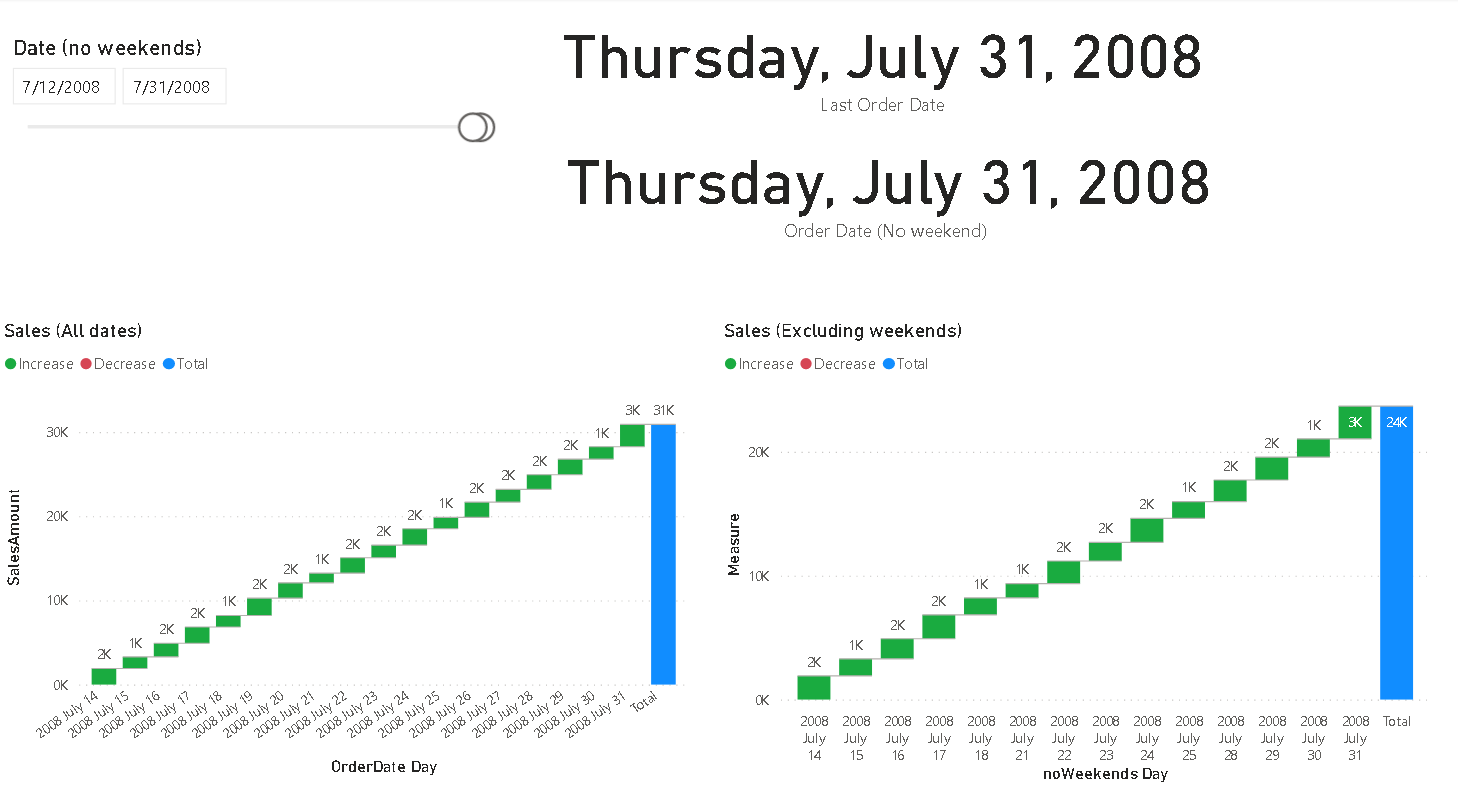

The page's visual inventory and layout, read from the dashboard file:
{"tool":"powerbi","page":{"name":"Page 1","canvas":[1280,720],"ordinal":0},"visuals":[{"type":"waterfallChart","title":"Sales (All dates)","fields":{"Category":["tblInternetSales.OrderDate.Variation.Date Hierarchy.Year","tblInternetSales.OrderDate.Variation.Date Hierarchy.Month","tblInternetSales.OrderDate.Variation.Date Hierarchy.Day"],"Y":["Sum(tblInternetSales.SalesAmount)"]},"box":[0,280.6,608.6,403.6],"z":0},{"type":"slicer","fields":{"Values":["tblInternetSales.noWeekends"]},"box":[0,27.3,430.9,200.4],"z":1000},{"type":"card","fields":{"Values":["Max(tblInternetSales.OrderDate)"]},"box":[406.3,0,697.9,109.3],"z":2000},{"type":"card","title":"Prior day","fields":{"Values":["Max(tblInternetSales.noWeekends)"]},"box":[412.7,102,697.9,125.7],"z":3000},{"type":"waterfallChart","title":"Sales (Excluding weekends)","fields":{"Category":["tblInternetSales.noWeekends.Variation.Date Hierarchy.Year","tblInternetSales.noWeekends.Variation.Date Hierarchy.Month","tblInternetSales.noWeekends.Variation.Date Hierarchy.Day"],"Y":["tblInternetSales.Measure"]},"box":[629.5,280.6,627.7,410],"z":3001}]}

Visuals, with their boxes in screenshot pixels (x1, y1, x2, y2), scaled from the page's 1280x720 canvas onto the 1458x811 screenshot:
"Sales (All dates)" waterfallChart: [x1=0, y1=316, x2=693, y2=771]
slicer - tblInternetSales.noWeekends: [x1=0, y1=31, x2=491, y2=256]
card - Max(tblInternetSales.OrderDate): [x1=463, y1=0, x2=1258, y2=123]
"Prior day" card: [x1=470, y1=115, x2=1265, y2=256]
"Sales (Excluding weekends)" waterfallChart: [x1=717, y1=316, x2=1432, y2=778]
